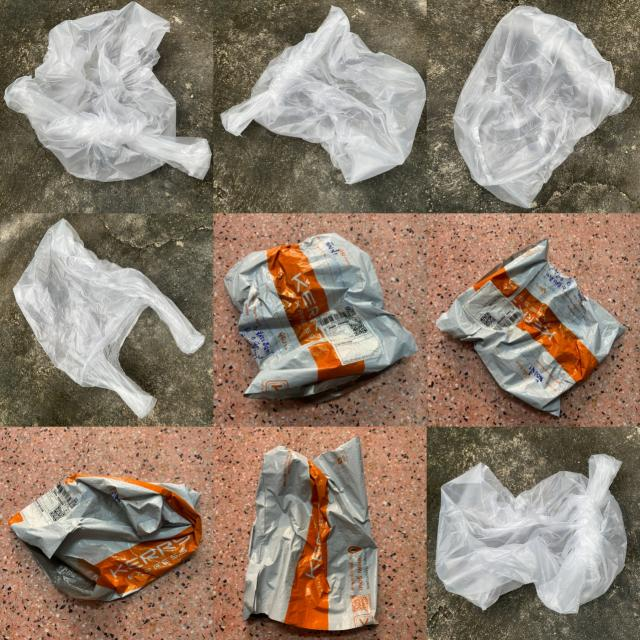Single-layer Plastic: (14, 219, 204, 419), (5, 2, 211, 181), (221, 6, 426, 184), (454, 6, 632, 208), (436, 239, 625, 416), (225, 232, 418, 398), (436, 455, 626, 614), (244, 438, 378, 629), (9, 475, 201, 601)
